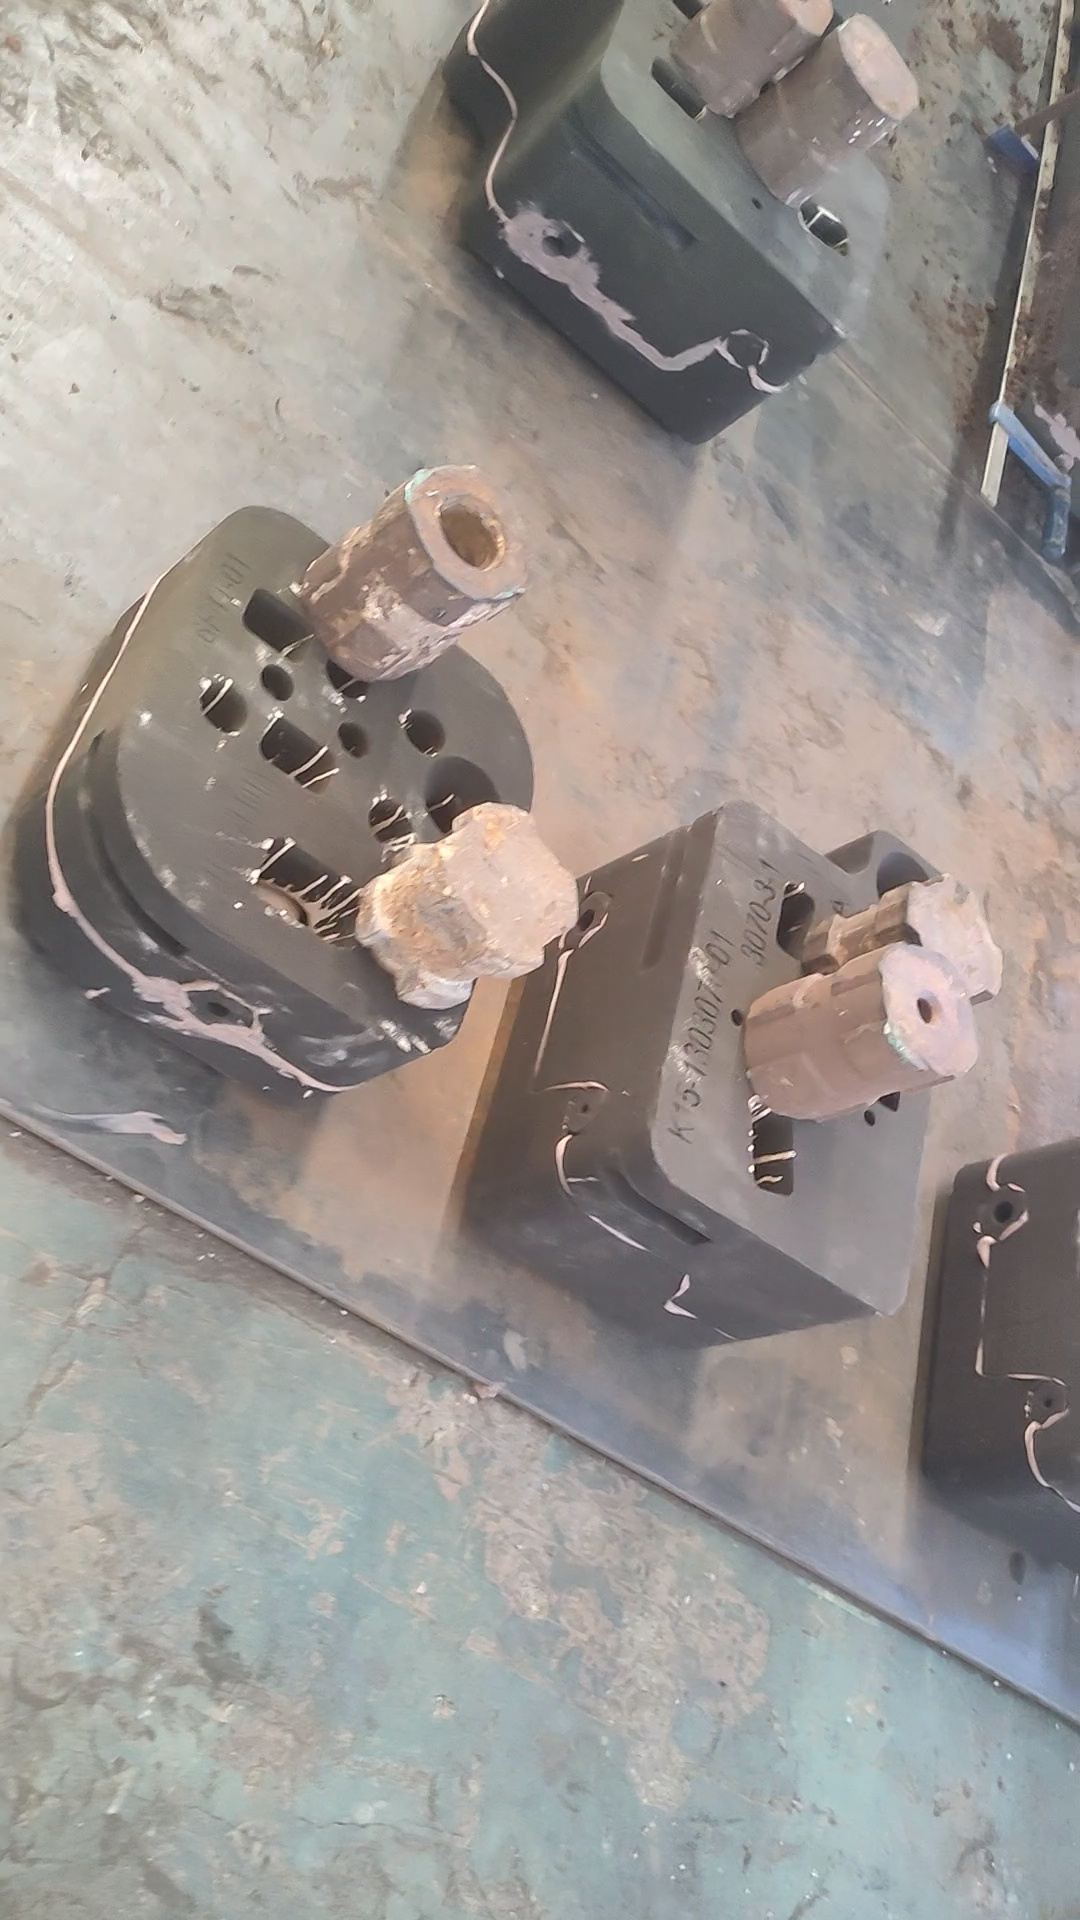pouring hole: (425, 758, 506, 841), (876, 849, 940, 913), (669, 1, 720, 25)
